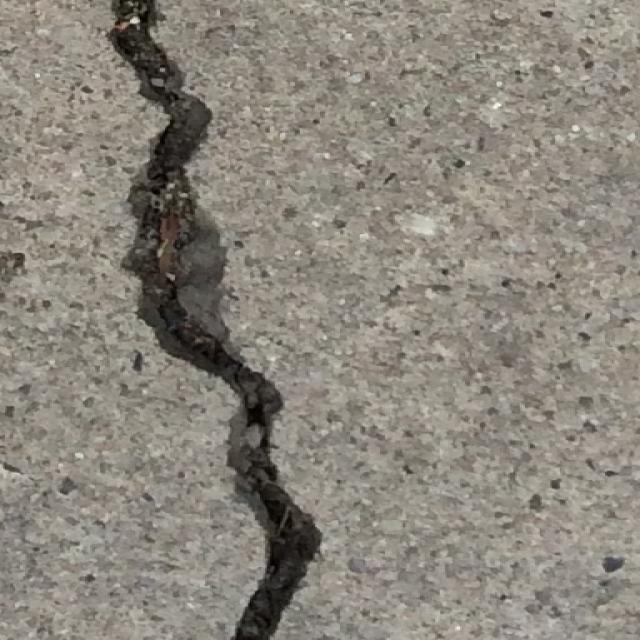crack: (75, 1, 330, 638)
spall: (124, 118, 261, 383)
